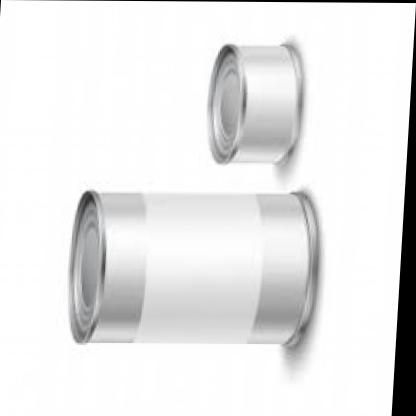trash: (69, 191, 317, 343), (208, 45, 303, 162)
